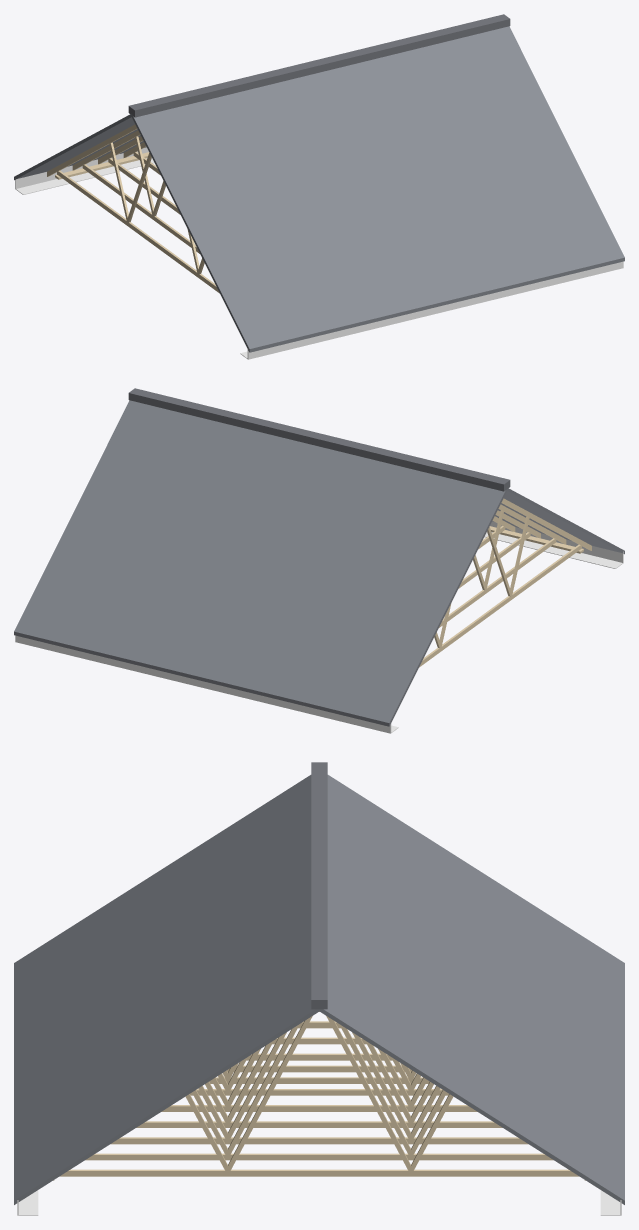
The model's file is stage-7-house.glb.
The picture shows the model from 3 angles, top to bottom: view 1: azimuth 30°, elevation 25°; view 2: azimuth 150°, elevation 25°; view 3: azimuth 270°, elevation 25°; orthographic projection. The views are drawn at different scales.
Visible parts, largest first — view 1: Geom3D_ (×4); view 2: Geom3D_ (×4); view 3: Geom3D_ (×4).
Boxes of the visible parts, <box> form: Geom3D_ (×4): <box>14,14,624,359</box>; Geom3D_ (×4): <box>14,388,624,733</box>; Geom3D_ (×4): <box>14,762,624,1215</box>.
Bounding box in the file's own units: 8.81 × 3.73 × 9.58.
